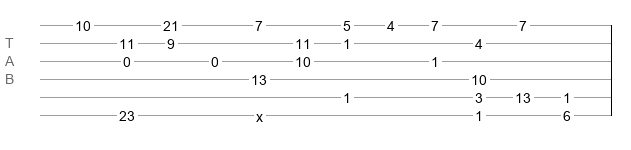0: (123, 54, 131, 64), (211, 54, 219, 64)
1: (343, 36, 351, 46), (343, 90, 351, 100), (431, 54, 439, 64), (475, 108, 483, 118), (563, 90, 571, 100)
10: (75, 18, 91, 28), (295, 54, 311, 64), (471, 72, 487, 82)
11: (119, 36, 135, 46), (295, 36, 311, 46)
13: (251, 72, 267, 82), (515, 90, 531, 100)
21: (163, 18, 179, 28)
23: (119, 108, 135, 118)
3: (475, 90, 483, 100)
4: (387, 18, 395, 28), (475, 36, 483, 46)
5: (343, 18, 351, 28)
6: (563, 108, 571, 118)
7: (255, 18, 263, 28), (431, 18, 439, 28), (519, 18, 527, 28)
9: (167, 36, 175, 46)
x: (256, 109, 263, 117)
